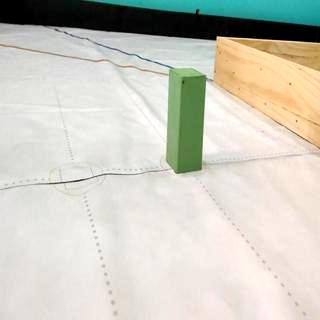greenbox: (164, 65, 208, 175)
